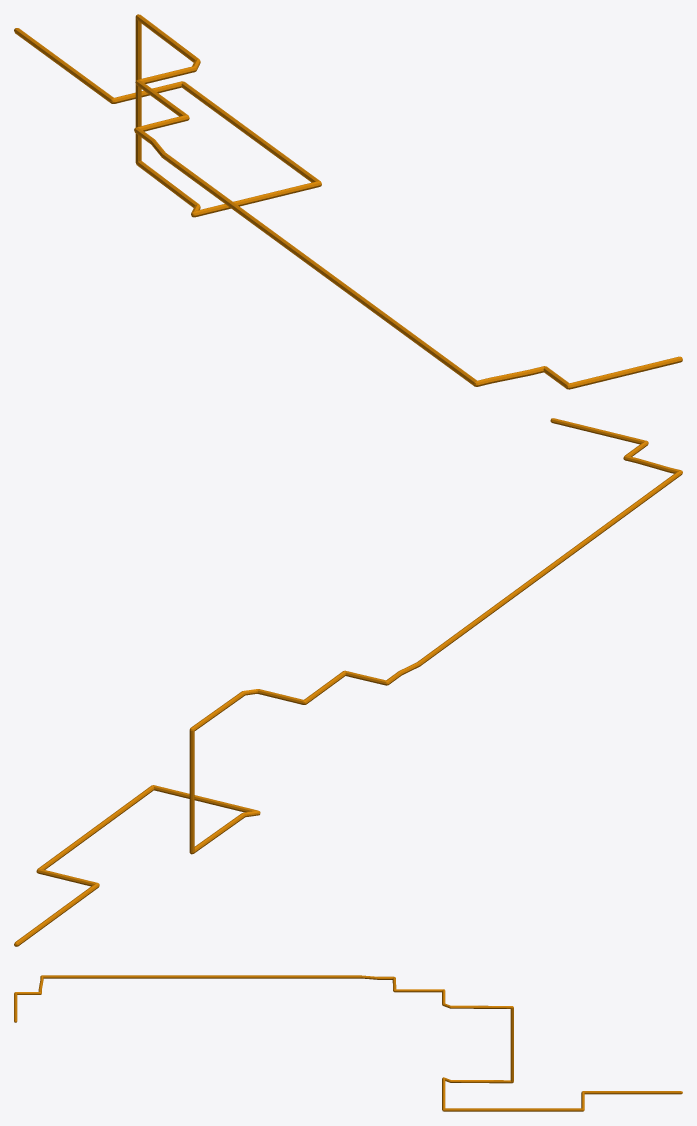
3 renders of one model, top to bottom at view 1: azimuth 30°, elevation 25°; view 2: azimuth 150°, elevation 25°; view 3: azimuth 270°, elevation 25°, orthographic. The views are drawn at different scales.
Size of the model in its own units: 869 by 520 by 4083.
